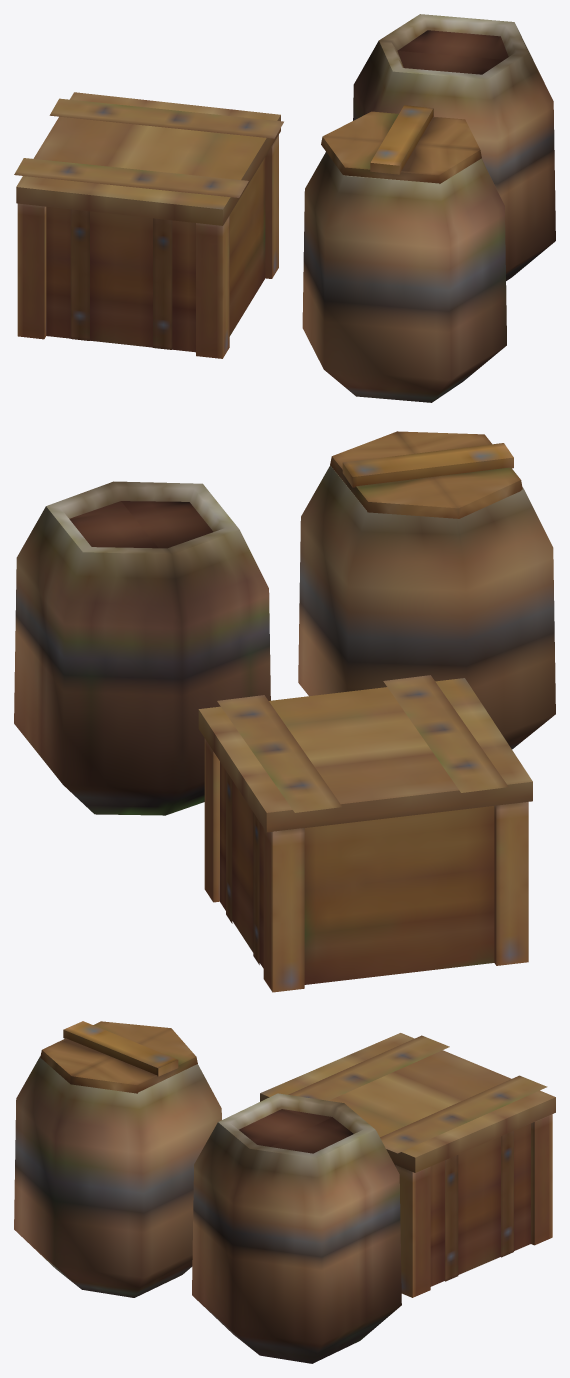
The model's file is area_12_3.FBX.
3 renders of one model, top to bottom at view 1: azimuth 30°, elevation 25°; view 2: azimuth 150°, elevation 25°; view 3: azimuth 270°, elevation 25°, orthographic. The views are drawn at different scales.
Parts seen in each view (by area): view 1: area_12_3; view 2: area_12_3; view 3: area_12_3.
Part boxes in pixels (x1=…): area_12_3: x1=14, y1=14, x2=555, y2=402; area_12_3: x1=14, y1=431, x2=555, y2=992; area_12_3: x1=14, y1=1021, x2=555, y2=1363.
Size of the model in its own units: 2.33 by 1.18 by 2.44.
